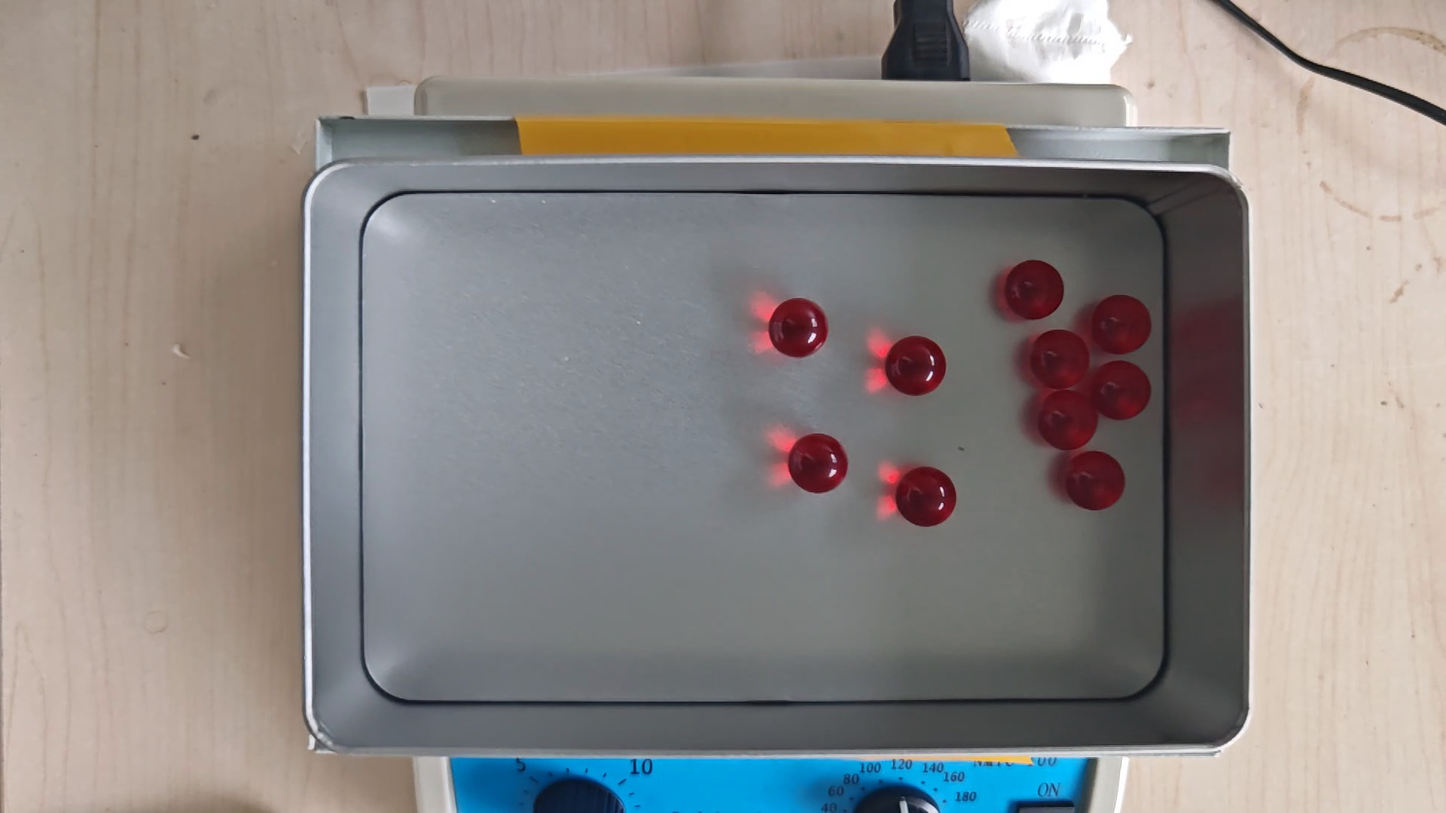ball: (1064, 450, 1126, 512), (886, 335, 947, 397), (1091, 294, 1152, 356), (788, 433, 849, 494), (896, 466, 957, 527), (1031, 329, 1091, 390), (1038, 390, 1098, 451), (1092, 361, 1152, 421), (1005, 259, 1064, 320), (770, 297, 828, 359)
container: (356, 192, 1168, 702)
